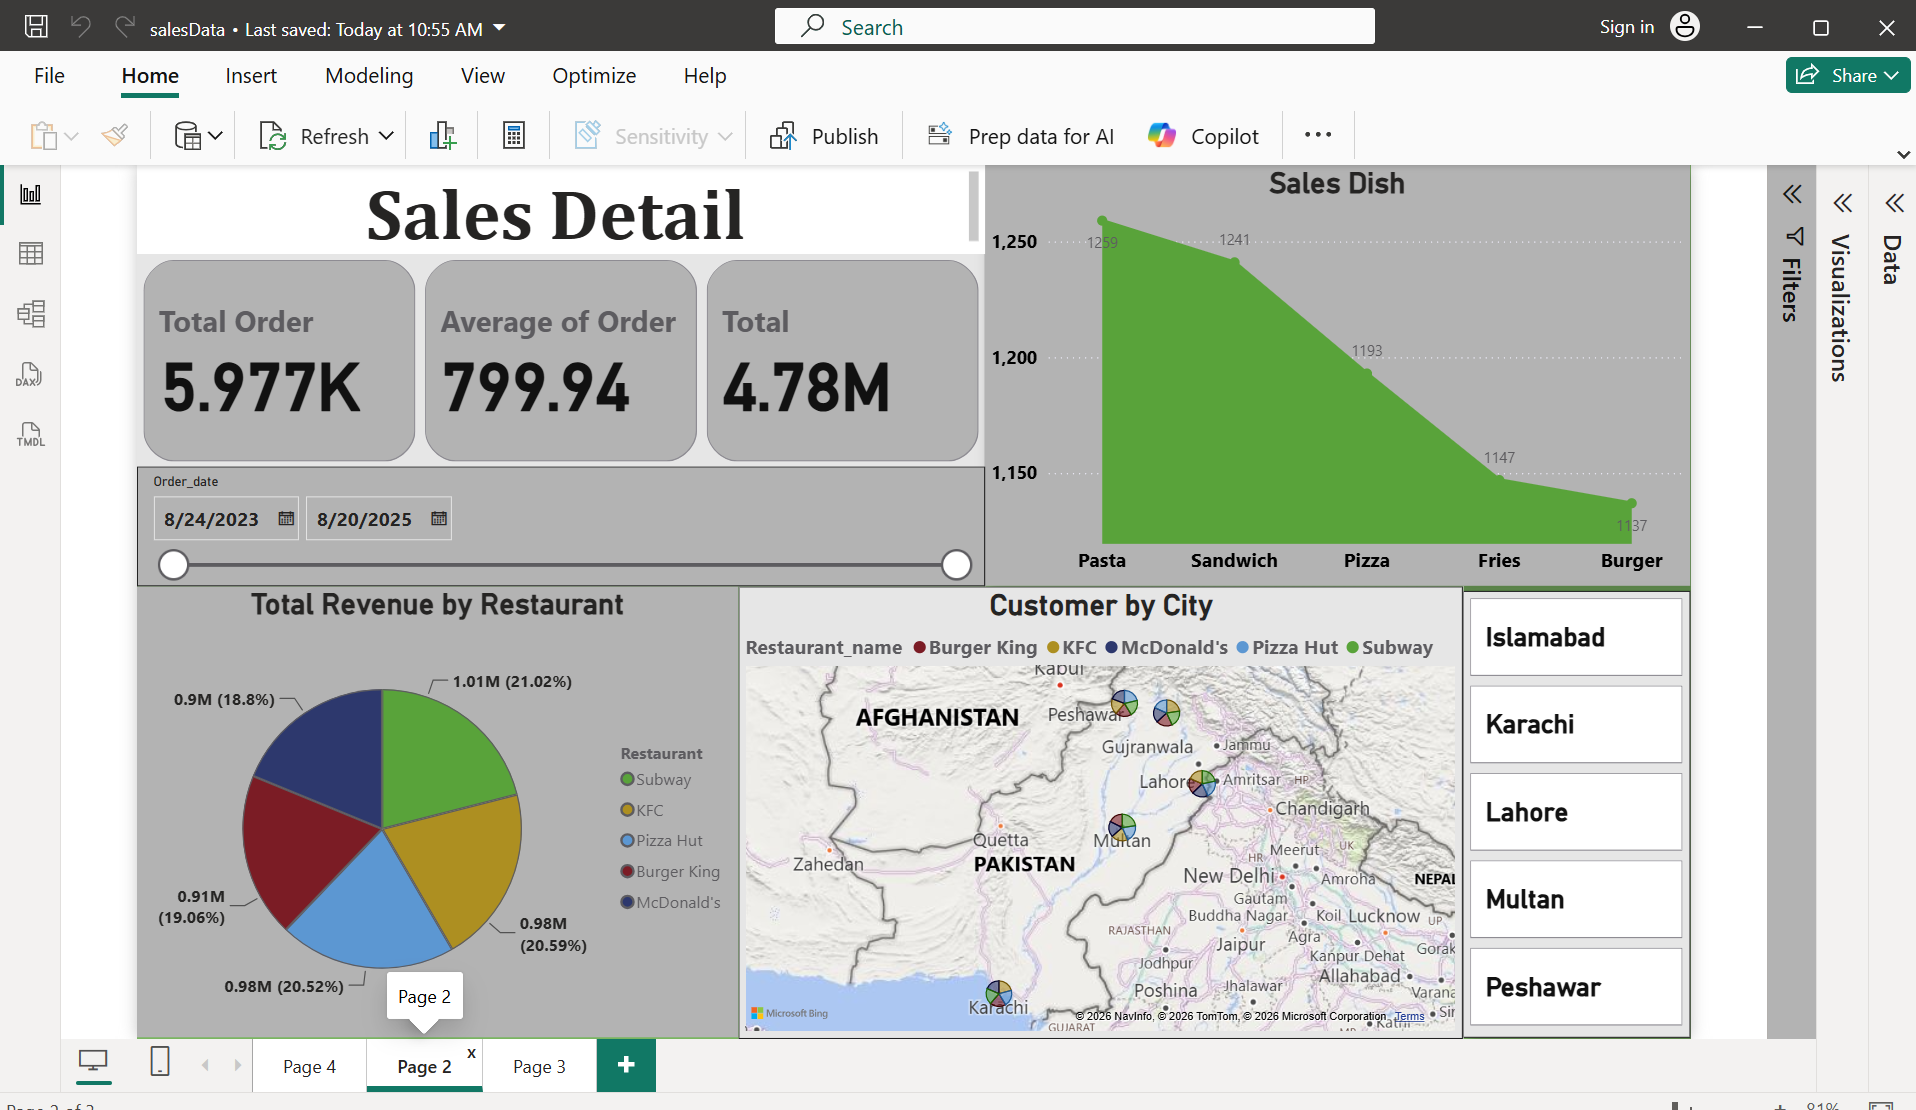

This screenshot's page, from the dashboard's own definition file:
{"tool":"powerbi","page":{"name":"Page 2","canvas":[1280,720],"ordinal":1},"visuals":[{"type":"cardVisual","fields":{"Data":["Count(foodpandas.customer_id)","Avg(foodpandas.price)","Sum(foodpandas.price)1"]},"box":[0,73,698.4,176.2],"z":0},{"type":"lineChart","title":" Sales Dish","fields":{"Category":["foodpandas.dish_name"],"Y":["CountNonNull(foodpandas.dish_name)"]},"box":[698,0,581.5,346.8],"z":1000},{"type":"advancedSlicerVisual","fields":{"Values":["foodpandas.city"]},"box":[1092.1,350.8,187.3,368.3],"z":2000},{"type":"pieChart","fields":{"Category":["foodpandas.restaurant_name"],"Y":["Sum(foodpandas.price)"]},"box":[0,347.6,495.2,371.4],"z":3000},{"type":"map","title":"Customer by City","fields":{"Series":["foodpandas.restaurant_name"],"Size":["CountNonNull(foodpandas.order_id)"],"Category":["foodpandas.city"]},"box":[495.1,346.8,596.6,372.5],"z":4000},{"type":"textbox","box":[0,0,698.4,73],"z":5000},{"type":"slicer","fields":{"Values":["foodpandas.order_date"]},"box":[0,248.6,698.6,98.6],"z":6000}]}

Visuals, with their boxes on the page's 1280x720 design canvas (x1, y1, x2, y2). These are canvas units, not pixel positions in the 1916x1110 screenshot, which may show the page scaled, cropped or inside an application window:
cardVisual - Count(foodpandas.customer_id) x Avg(foodpandas.price): BBox(0, 73, 698, 249)
" Sales Dish" lineChart: BBox(698, 0, 1280, 347)
advancedSlicerVisual - foodpandas.city: BBox(1092, 351, 1279, 719)
pieChart - foodpandas.restaurant_name x Sum(foodpandas.price): BBox(0, 348, 495, 719)
"Customer by City" map: BBox(495, 347, 1092, 719)
textbox: BBox(0, 0, 698, 73)
slicer - foodpandas.order_date: BBox(0, 249, 699, 347)
